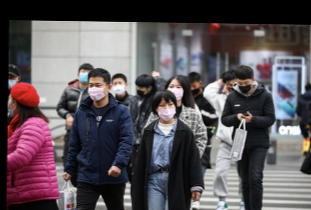with_mask: (155, 100, 176, 122), (86, 80, 107, 101), (165, 82, 184, 102), (235, 78, 253, 95), (109, 80, 125, 95), (77, 68, 91, 85), (7, 75, 18, 91), (188, 82, 200, 96), (135, 85, 147, 97)
